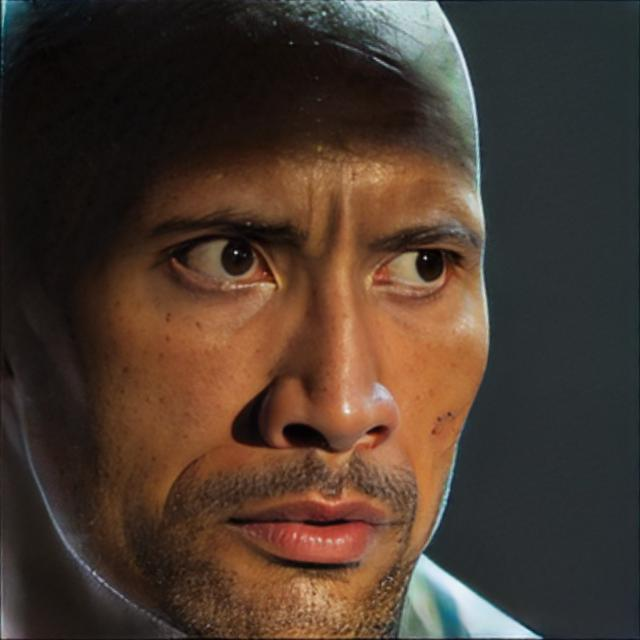anger: (61, 77, 492, 631)
